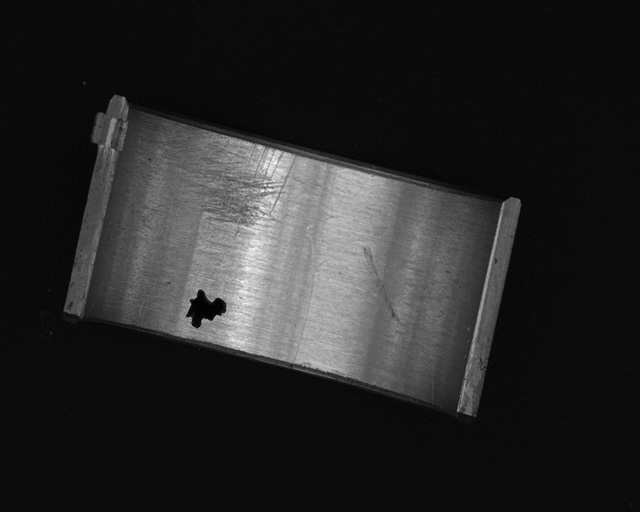blot: (185, 289, 227, 330)
nick: (292, 226, 319, 365), (362, 245, 402, 327)
scratch: (166, 121, 298, 239)
